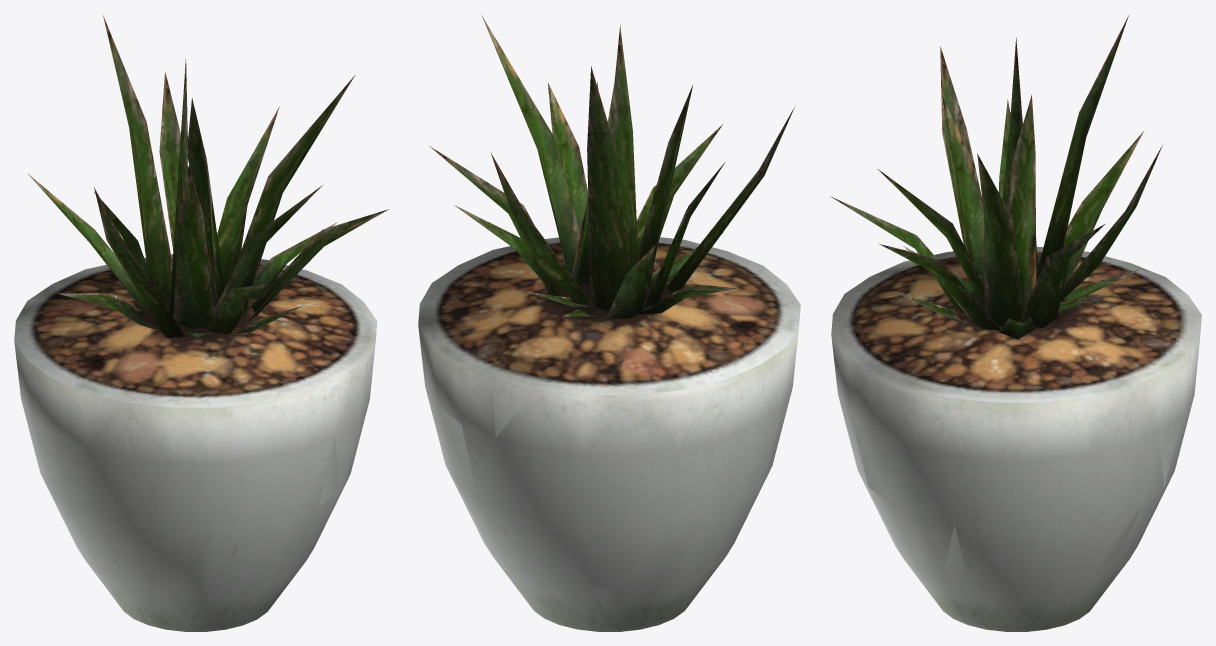
The model's file is Planter02_S.FBX.
The picture shows the model from 3 angles, left to right: view 1: azimuth 30°, elevation 25°; view 2: azimuth 150°, elevation 25°; view 3: azimuth 270°, elevation 25°; orthographic projection. The views are drawn at different scales.
Visible parts, largest first — view 1: Planter02_S; view 2: Planter02_S; view 3: Planter02_S.
Part boxes in pixels (x1=…): Planter02_S: x1=14, y1=15, x2=388, y2=631; Planter02_S: x1=418, y1=14, x2=800, y2=631; Planter02_S: x1=830, y1=15, x2=1201, y2=631.
Bounding box in the file's own units: 0.8903 × 1.5 × 0.8955.
